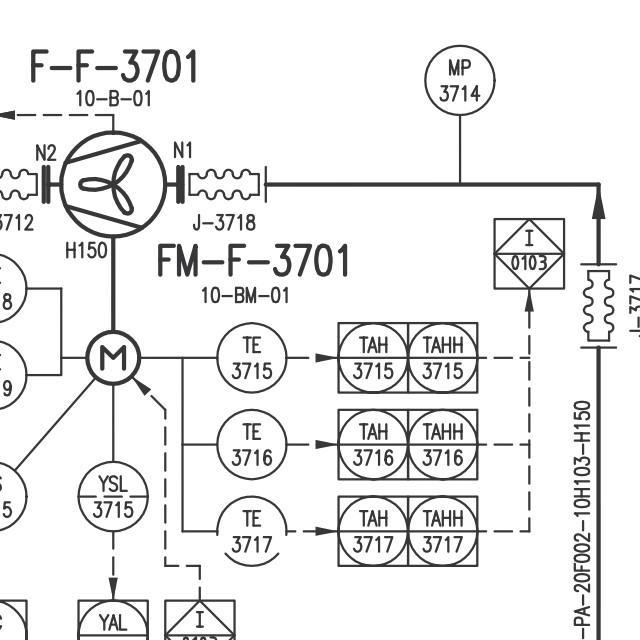EJ: (180, 162, 274, 212), (576, 252, 618, 352)
F: (59, 127, 168, 239)
M: (83, 329, 143, 385)
